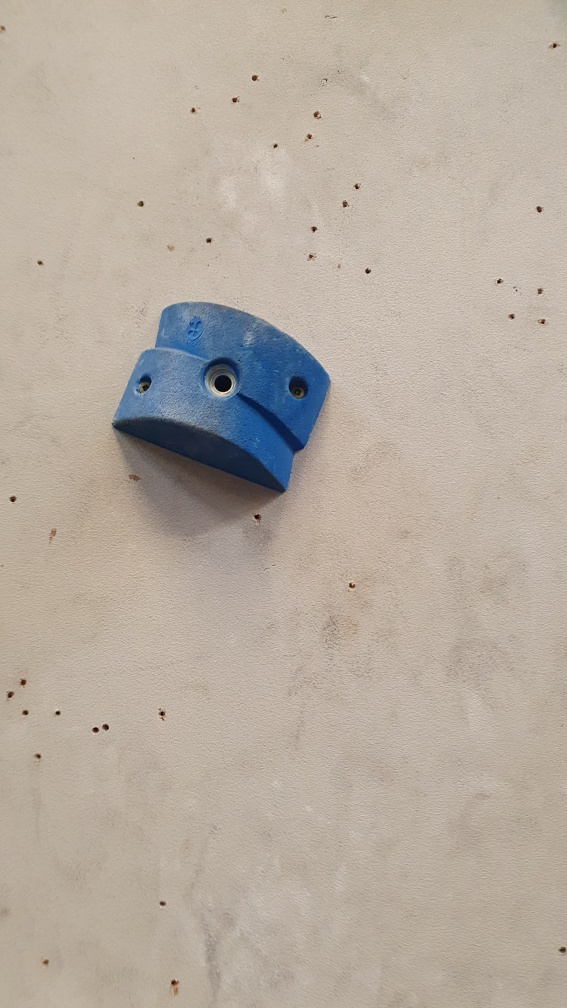Pinch: (107, 294, 335, 496)
